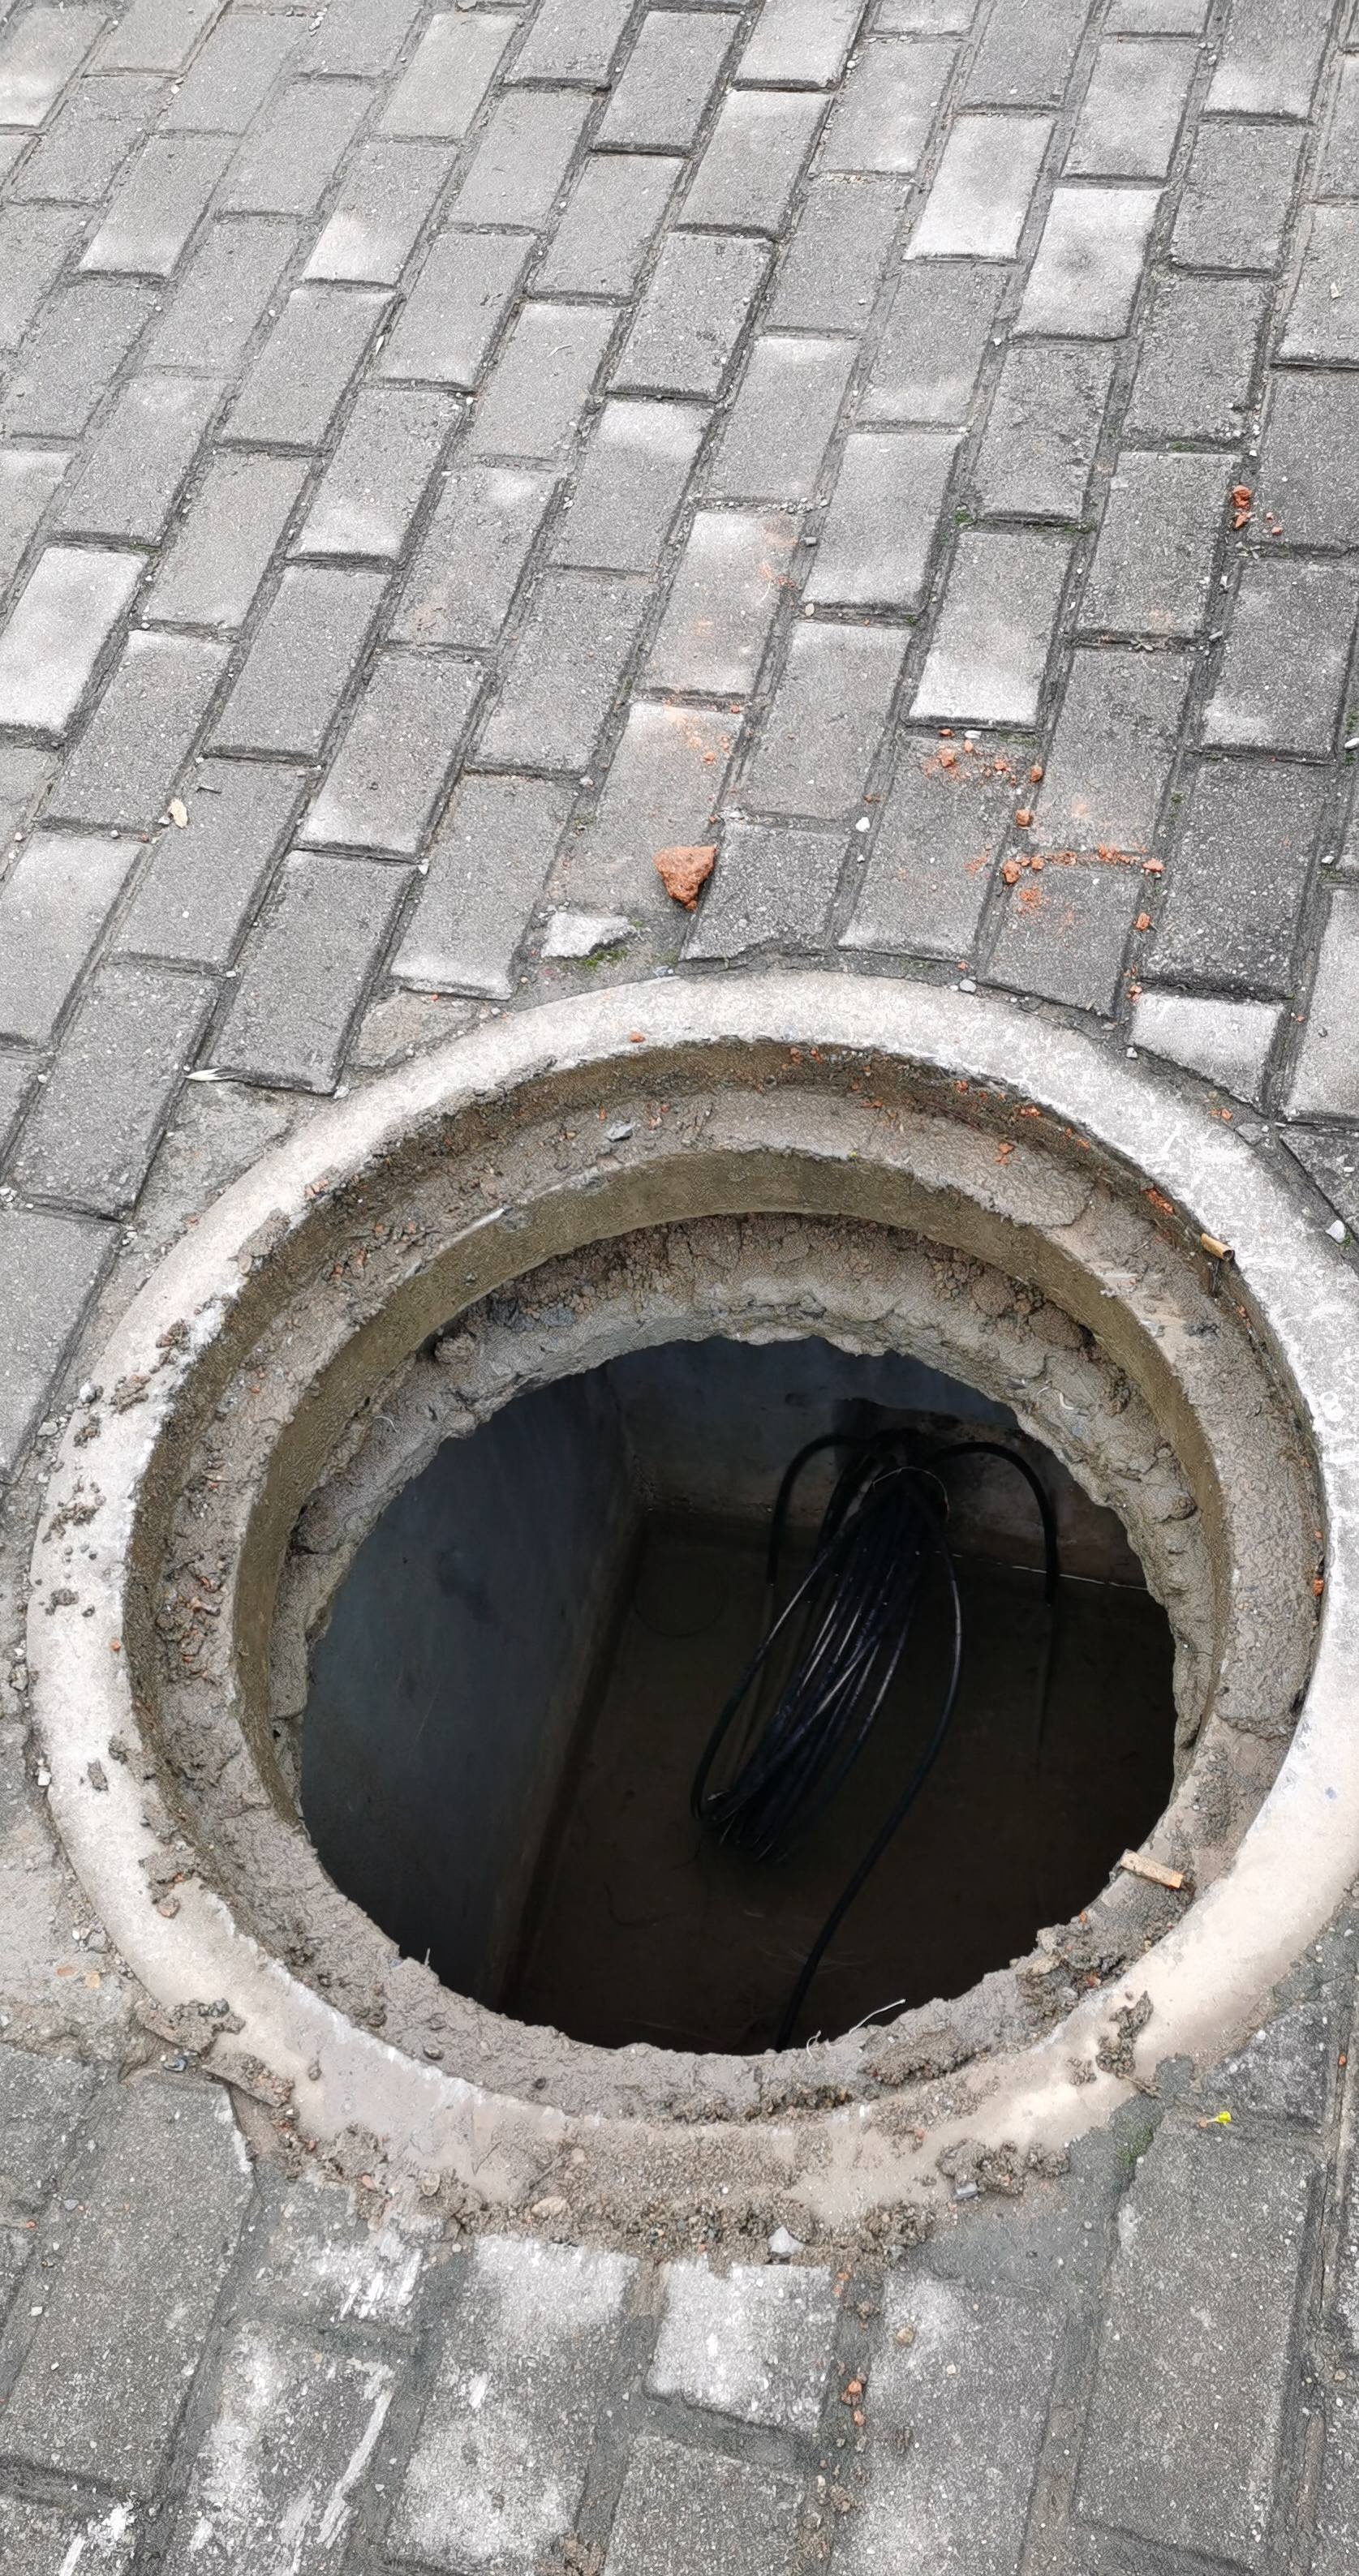lose: (32, 961, 1359, 2257)
